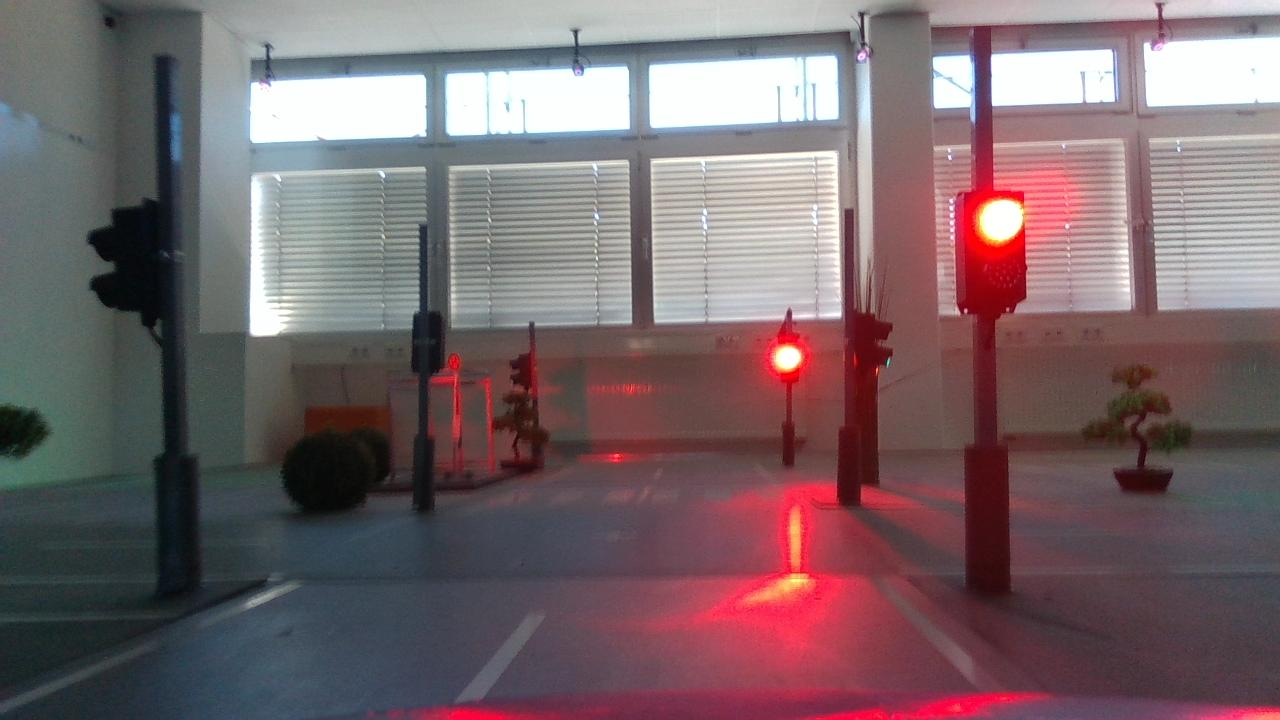traffic_light_red: (943, 174, 1044, 325)
